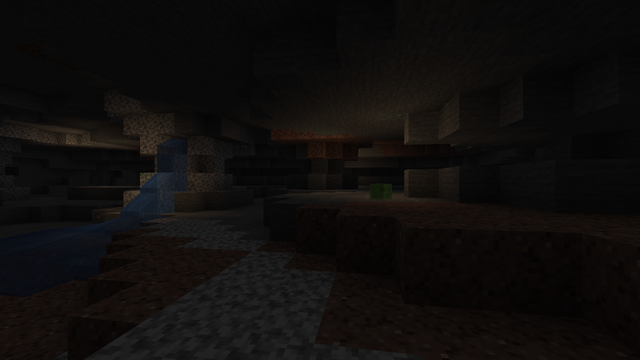slimes: (372, 182, 389, 198)
